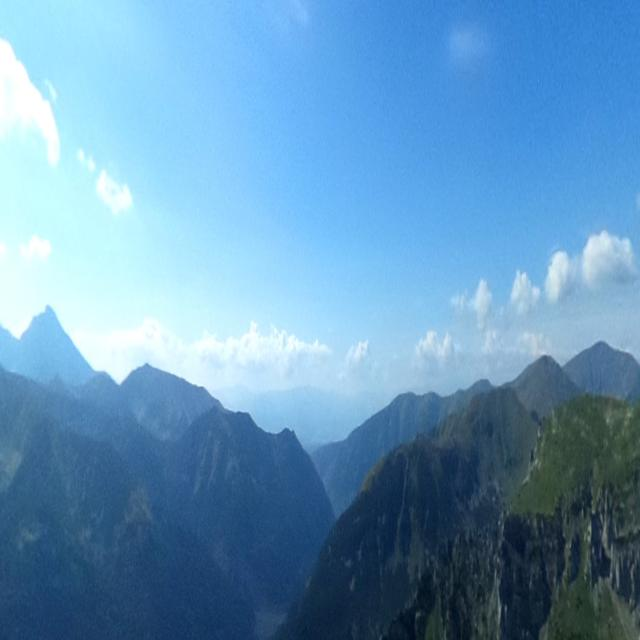Bystra: (576, 284, 626, 396)
Krivan: (12, 229, 84, 381)
Polska Tomanova: (393, 376, 489, 514)
Smreciny: (468, 332, 537, 451)
Velka Kamenista: (524, 307, 567, 399)
